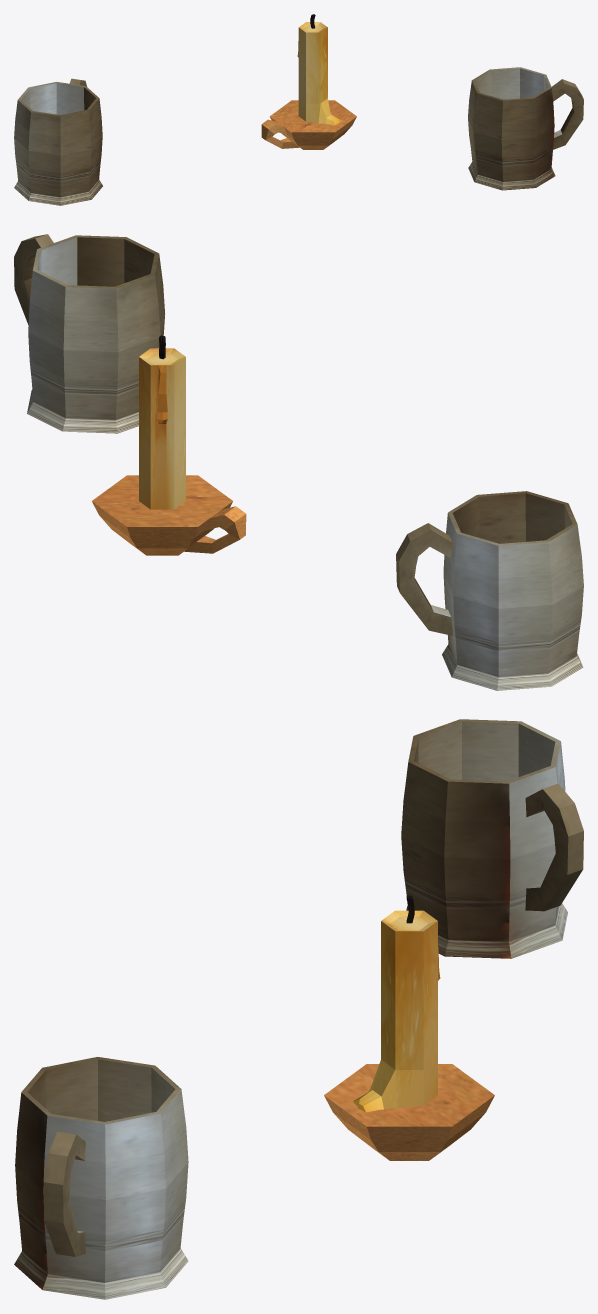
Rendered from TableClutter3.fbx.
The picture shows the model from 3 angles, top to bottom: view 1: azimuth 30°, elevation 25°; view 2: azimuth 150°, elevation 25°; view 3: azimuth 270°, elevation 25°; orthographic projection. The views are drawn at different scales.
Parts seen in each view (by area): view 1: Cylinder.001, Cylinder.002, Candle, Base; view 2: Cylinder.002, Cylinder.001, Base, Candle; view 3: Cylinder.001, Cylinder.002, Candle, Base.
Boxes of the visible parts, <box> form: Cylinder.001: <box>468,67,583,190</box>; Cylinder.002: <box>14,78,102,205</box>; Candle: <box>297,22,342,125</box>; Base: <box>261,100,356,149</box>; Cylinder.002: <box>396,491,583,690</box>; Cylinder.001: <box>14,234,164,433</box>; Base: <box>92,475,246,555</box>; Candle: <box>139,348,185,509</box>; Cylinder.001: <box>14,1057,188,1299</box>; Cylinder.002: <box>401,719,583,958</box>; Candle: <box>353,910,440,1112</box>; Base: <box>324,1064,494,1160</box>.
Size of the model in its own units: 210 by 57.11 by 117.
Materials: 1 (1 with a texture image).
